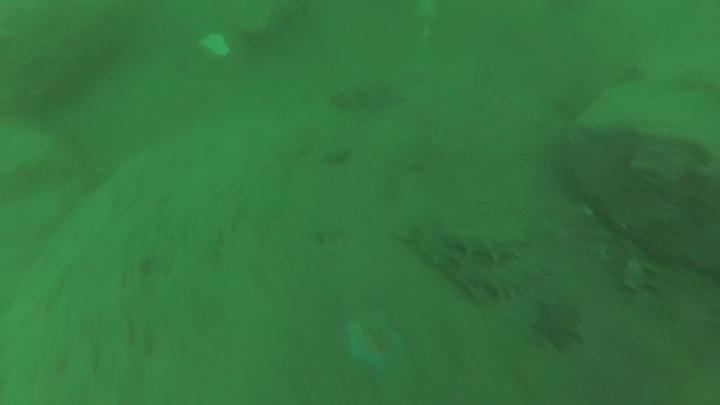holothurian: (402, 222, 553, 303), (420, 211, 541, 253)
starfish: (338, 307, 415, 379), (529, 292, 594, 358)
